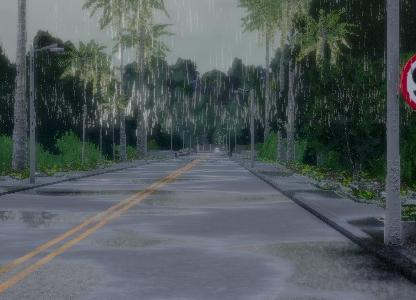Speed_90: (400, 43, 416, 119)
